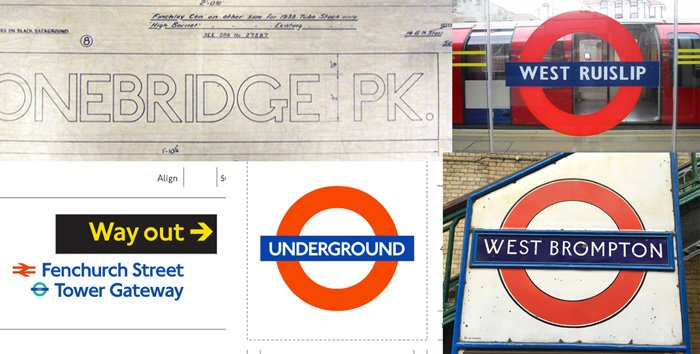London Underground: (474, 178, 679, 323), (262, 185, 412, 309), (505, 15, 653, 131)
